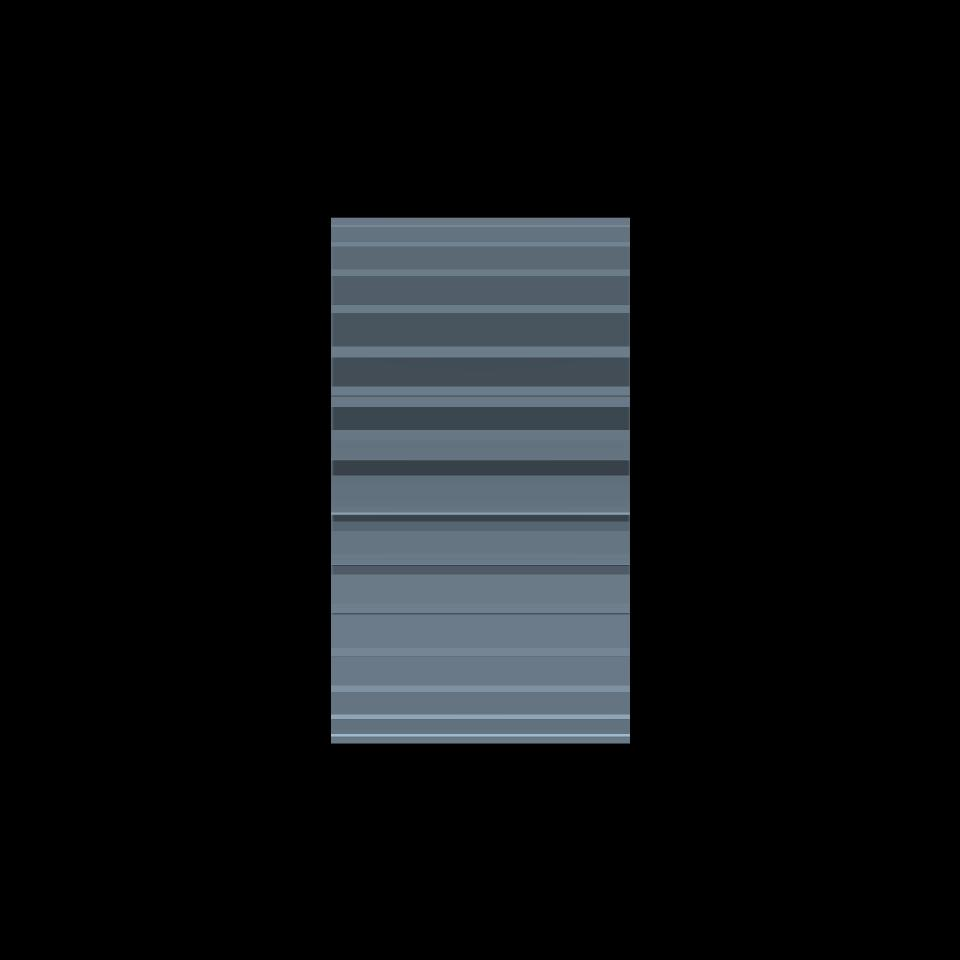Straight: (331, 218, 629, 743)
